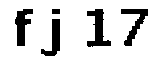1: (84, 8, 112, 48)
7: (117, 6, 152, 50)
f: (9, 4, 35, 49)
j: (36, 7, 67, 57)
